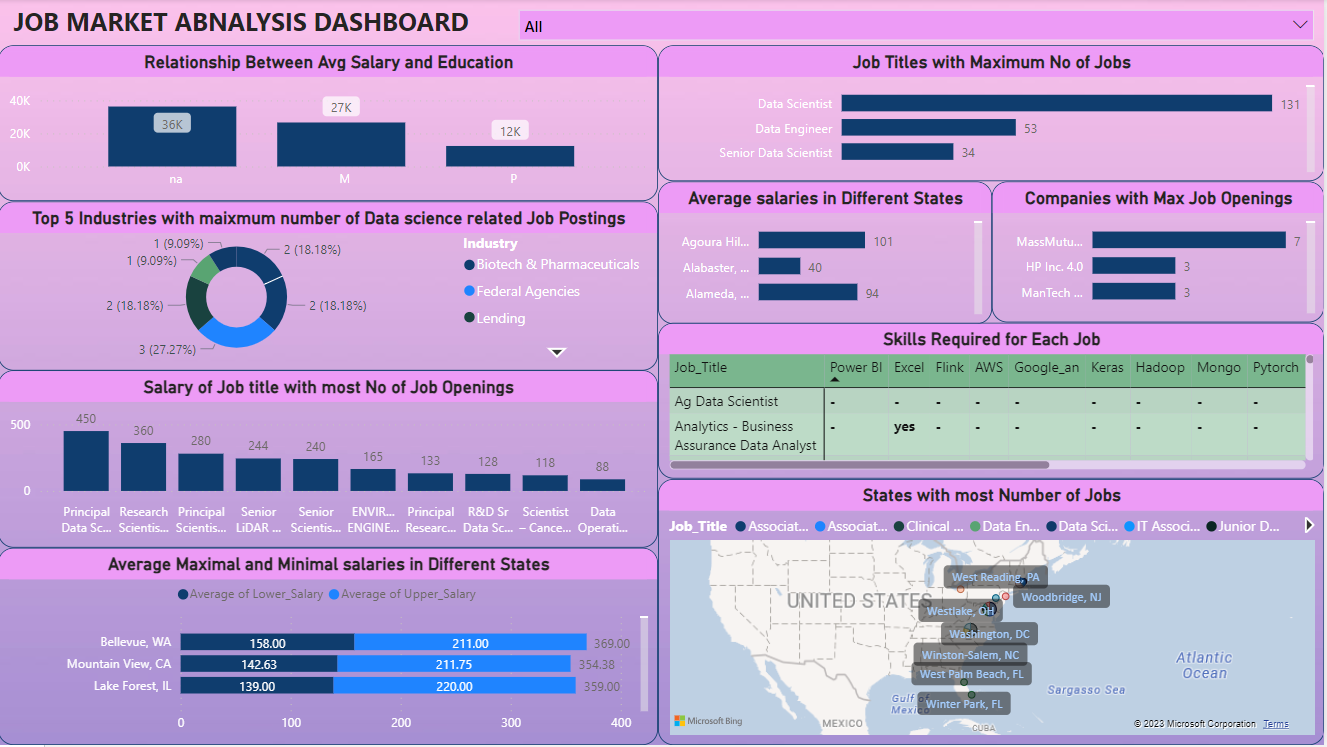

What the dashboard file says about the page in this screenshot:
{"tool":"powerbi","page":{"name":"Page 1","canvas":[1280,720],"ordinal":0},"visuals":[{"type":"map","title":"States with most Number of Jobs","fields":{"Size":["CountNonNull(project_job_market_analysis Market.Job_Title)"],"Category":["project_job_market_analysis Market.Location"],"Series":["project_job_market_analysis Market.Job_Title"]},"box":[636.8,463.1,642.8,256.9],"z":0},{"type":"barChart","title":"Average Maximal and Minimal salaries in Different States","fields":{"Y":["Avg(project_job_market_analysis Market.Lower_Salary)","Avg(project_job_market_analysis Market.Upper_Salary)"],"Category":["project_job_market_analysis Market.Location"]},"box":[0,529.4,636.8,190.6],"z":1000},{"type":"barChart","title":"Average salaries in Different States","fields":{"Category":["project_job_market_analysis Market.Location"],"Y":["Avg(project_job_market_analysis Market.Avg_SalaryK)"]},"box":[636.8,176.1,322,137.5],"z":2000},{"type":"donutChart","title":"Top 5 Industries with maixmum number of Data science related Job Postings","fields":{"Category":["project_job_market_analysis Market.Industry"],"Y":["CountNonNull(project_job_market_analysis Market.Job_Title)"],"Series":["project_job_market_analysis Market.Job_Title"]},"box":[0,195.4,636.8,162.8],"z":3000},{"type":"clusteredBarChart","title":"Companies with Max Job Openings","fields":{"Category":["project_job_market_analysis Market.Company_Name"],"Y":["Count(project_job_market_analysis Market.job_title_sim)"]},"box":[958.8,176.1,320.8,136.3],"z":4000},{"type":"columnChart","title":"Salary of Job title with most No of Job Openings","fields":{"Category":["project_job_market_analysis Market.Job_Title"],"Y":["Sum(project_job_market_analysis Market.Avg_SalaryK)"]},"box":[0,358.2,636.8,171.3],"z":5000},{"type":"pivotTable","title":"Skills Required for Each Job","fields":{"Rows":["project_job_market_analysis Market.Job_Title"],"Values":["Min(project_job_market_analysis Market.bi)","Min(project_job_market_analysis Market.excel)","Min(project_job_market_analysis Market.flink)","Min(project_job_market_analysis Market.aws)","Min(project_job_market_analysis Market.google_an)","Min(project_job_market_analysis Market.keras)","Min(project_job_market_analysis Market.hadoop)","Min(project_job_market_analysis Market.mongo)","Min(project_job_market_analysis Market.pytorch)","Min(project_job_market_analysis Market.Python)","Min(project_job_market_analysis Market.sas)","Min(project_job_market_analysis Market.scikit)"]},"box":[636.8,312.4,642.8,150.8],"z":6000},{"type":"lineClusteredColumnComboChart","title":"Relationship Between Avg Salary and Education","fields":{"Category":["project_job_market_analysis Market.Degree"],"Y":["Sum(project_job_market_analysis Market.Avg_SalaryK)"]},"box":[0,44.6,636.8,150.8],"z":7000},{"type":"barChart","title":"Job Titles with Maximum No of Jobs","fields":{"Category":["project_job_market_analysis Market.Job_Title"],"Y":["CountNonNull(project_job_market_analysis Market.job_title_sim)"]},"box":[636.8,44.6,642.8,131.5],"z":8000},{"type":"textbox","box":[9.6,0,463.1,44.6],"z":9000},{"type":"slicer","fields":{"Values":["project_job_market_analysis Market.job_title_sim"]},"box":[492.1,0,787.5,44.6],"z":10000}]}

Visuals, with their boxes in screenshot pixels (x1, y1, x2, y2), scaled from the page's 1280x720 canvas onto the 1327x747 screenshot:
"States with most Number of Jobs" map: region(660, 480, 1326, 746)
"Average Maximal and Minimal salaries in Different States" barChart: region(0, 549, 660, 746)
"Average salaries in Different States" barChart: region(660, 183, 994, 325)
"Top 5 Industries with maixmum number of Data science related Job Postings" donutChart: region(0, 203, 660, 372)
"Companies with Max Job Openings" clusteredBarChart: region(994, 183, 1326, 324)
"Salary of Job title with most No of Job Openings" columnChart: region(0, 372, 660, 549)
"Skills Required for Each Job" pivotTable: region(660, 324, 1326, 481)
"Relationship Between Avg Salary and Education" lineClusteredColumnComboChart: region(0, 46, 660, 203)
"Job Titles with Maximum No of Jobs" barChart: region(660, 46, 1326, 183)
textbox: region(10, 0, 490, 46)
slicer - project_job_market_analysis Market.job_title_sim: region(510, 0, 1326, 46)
